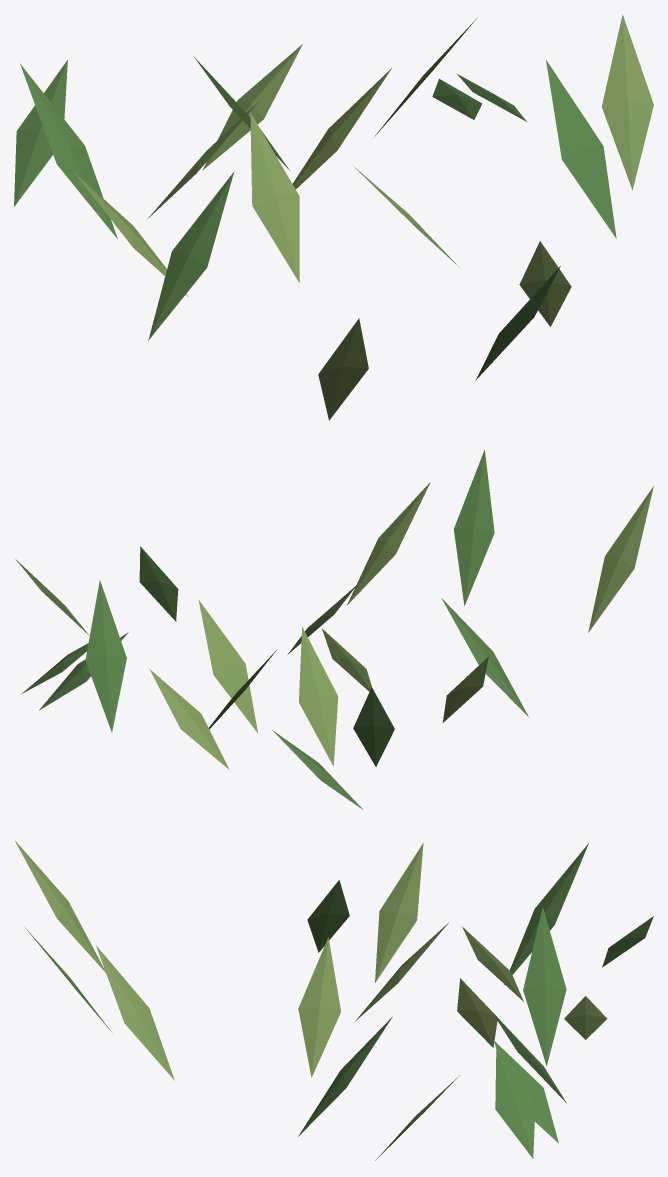
The model's file is vegetation-grass-short.lod0.glb.
3 renders of one model, top to bottom at view 1: azimuth 30°, elevation 25°; view 2: azimuth 150°, elevation 25°; view 3: azimuth 270°, elevation 25°, orthographic. The views are drawn at different scales.
Parts seen in each view (by area): view 1: vegetation-grass-short__body; view 2: vegetation-grass-short__body; view 3: vegetation-grass-short__body.
Part boxes in pixels (x1=…): vegetation-grass-short__body: x1=14, y1=14, x2=653, y2=420; vegetation-grass-short__body: x1=15, y1=450, x2=653, y2=809; vegetation-grass-short__body: x1=14, y1=839, x2=653, y2=1160.
Bounding box in the file's own units: 1.13 × 0.2848 × 1.32.
